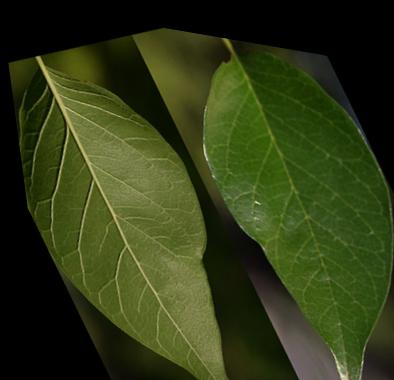Healthy Citrus: (2, 20, 298, 380), (151, 20, 394, 380)
